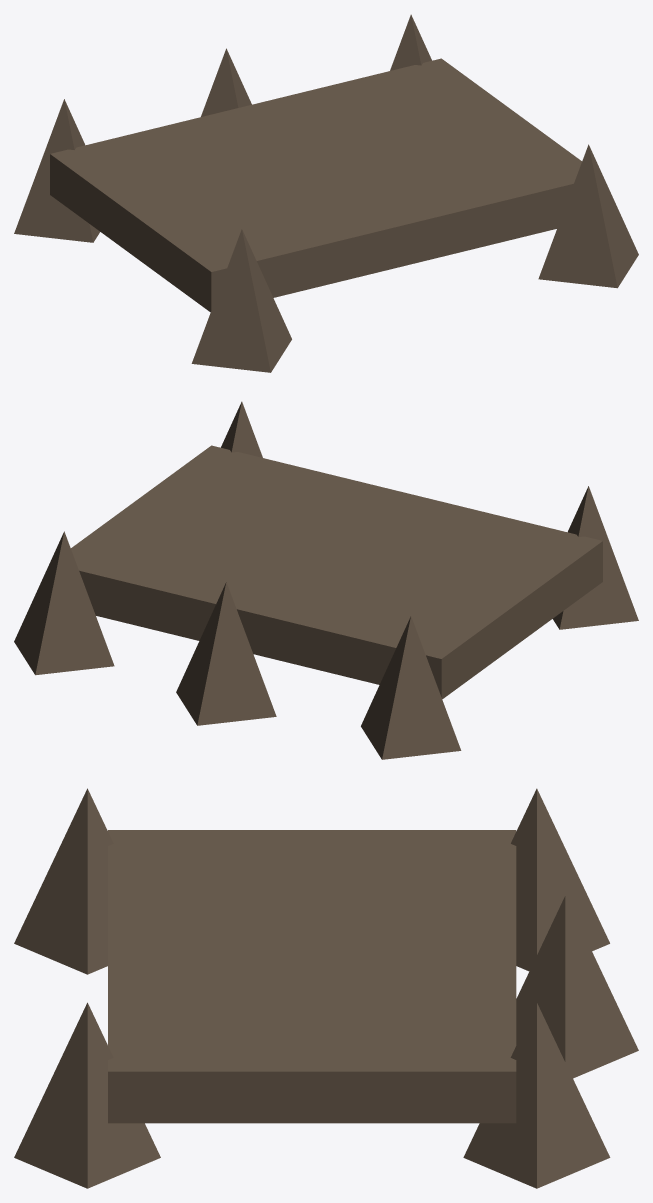
File: wolf_fur.obj
3 renders of one model, top to bottom at view 1: azimuth 30°, elevation 25°; view 2: azimuth 150°, elevation 25°; view 3: azimuth 270°, elevation 25°, orthographic. The views are drawn at different scales.
Parts seen in each view (by area): view 1: models/items/wolf_fur.obj; view 2: models/items/wolf_fur.obj; view 3: models/items/wolf_fur.obj.
Part boxes in pixels (x1,y1,x2,y2): models/items/wolf_fur.obj: (14, 14, 638, 372); models/items/wolf_fur.obj: (14, 401, 638, 759); models/items/wolf_fur.obj: (14, 788, 638, 1188).
Bounding box in the file's own units: 1.6 × 0.42 × 1.53.
